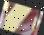scratch: (0, 1, 41, 35)
